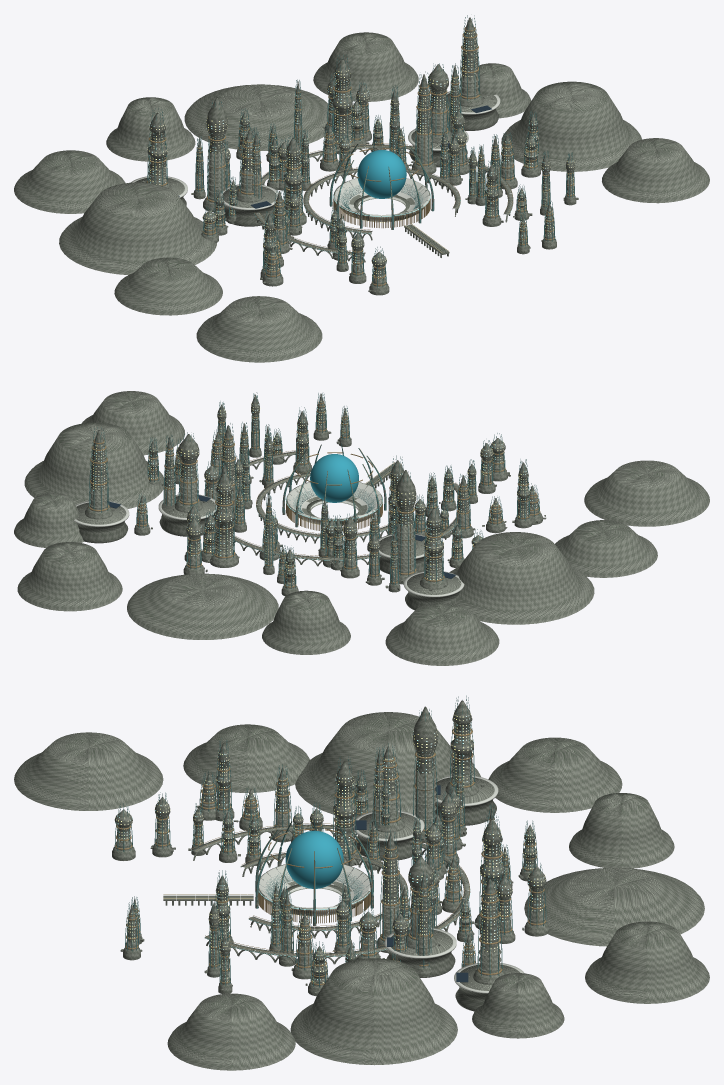
Rendered from dream-city.glb.
The picture shows the model from 3 angles, top to bottom: view 1: azimuth 30°, elevation 25°; view 2: azimuth 150°, elevation 25°; view 3: azimuth 270°, elevation 25°; orthographic projection. The views are drawn at different scales.
Visible parts, largest first — view 1: Permanent_Basalt, Dream_Limestone, Dream_Patina, Ruins_RuinStone, Dream_Bronze, Dream_Ivory, Dream_WindowGold, WaterVolume, Ruins_Bronze, Dream_WindowBlue; view 2: Permanent_Basalt, Dream_Limestone, Dream_Patina, Ruins_RuinStone, Dream_Bronze, Dream_Ivory, WaterVolume, Dream_WindowGold, Ruins_Bronze, Dream_WindowBlue; view 3: Permanent_Basalt, Dream_Limestone, Dream_Patina, Ruins_RuinStone, Dream_Bronze, Dream_Ivory, WaterVolume, Dream_WindowGold, Ruins_Bronze, Dream_WindowBlue.
Boxes of the visible parts, left/top/right/bottom form: Permanent_Basalt: left=14, top=32, right=709, bottom=362; Dream_Limestone: left=147, top=17, right=574, bottom=286; Dream_Patina: left=147, top=15, right=574, bottom=287; Ruins_RuinStone: left=142, top=75, right=578, bottom=293; Dream_Bronze: left=147, top=27, right=574, bottom=285; Dream_Ivory: left=131, top=89, right=500, bottom=222; Dream_WindowGold: left=147, top=32, right=574, bottom=278; WaterVolume: left=357, top=150, right=406, bottom=198; Ruins_Bronze: left=157, top=76, right=573, bottom=284; Dream_WindowBlue: left=149, top=33, right=573, bottom=276; Permanent_Basalt: left=14, top=391, right=709, bottom=665; Dream_Limestone: left=90, top=393, right=538, bottom=588; Dream_Patina: left=89, top=392, right=539, bottom=589; Ruins_RuinStone: left=87, top=424, right=546, bottom=591; Dream_Bronze: left=88, top=401, right=540, bottom=587; Dream_Ivory: left=74, top=482, right=464, bottom=597; WaterVolume: left=310, top=454, right=358, bottom=502; Dream_WindowGold: left=91, top=401, right=537, bottom=585; Ruins_Bronze: left=103, top=424, right=526, bottom=585; Dream_WindowBlue: left=91, top=401, right=536, bottom=585; Permanent_Basalt: left=14, top=712, right=709, bottom=1070; Dream_Limestone: left=114, top=700, right=546, bottom=986; Dream_Patina: left=114, top=695, right=546, bottom=987; Ruins_RuinStone: left=115, top=762, right=547, bottom=994; Dream_Bronze: left=115, top=728, right=546, bottom=985; Dream_Ivory: left=258, top=775, right=524, bottom=993; WaterVolume: left=285, top=830, right=343, bottom=888; Dream_WindowGold: left=115, top=712, right=545, bottom=982; Ruins_Bronze: left=117, top=759, right=544, bottom=982; Dream_WindowBlue: left=115, top=715, right=543, bottom=980.
Size of the model in its own units: 1701 by 311 by 1508.
Materials: 11 (3 with a texture image).
